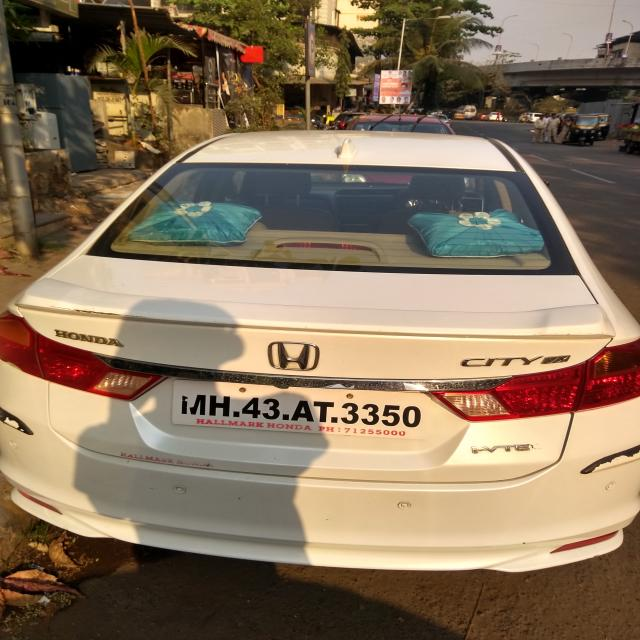Number-Plate: (174, 385, 439, 432)
